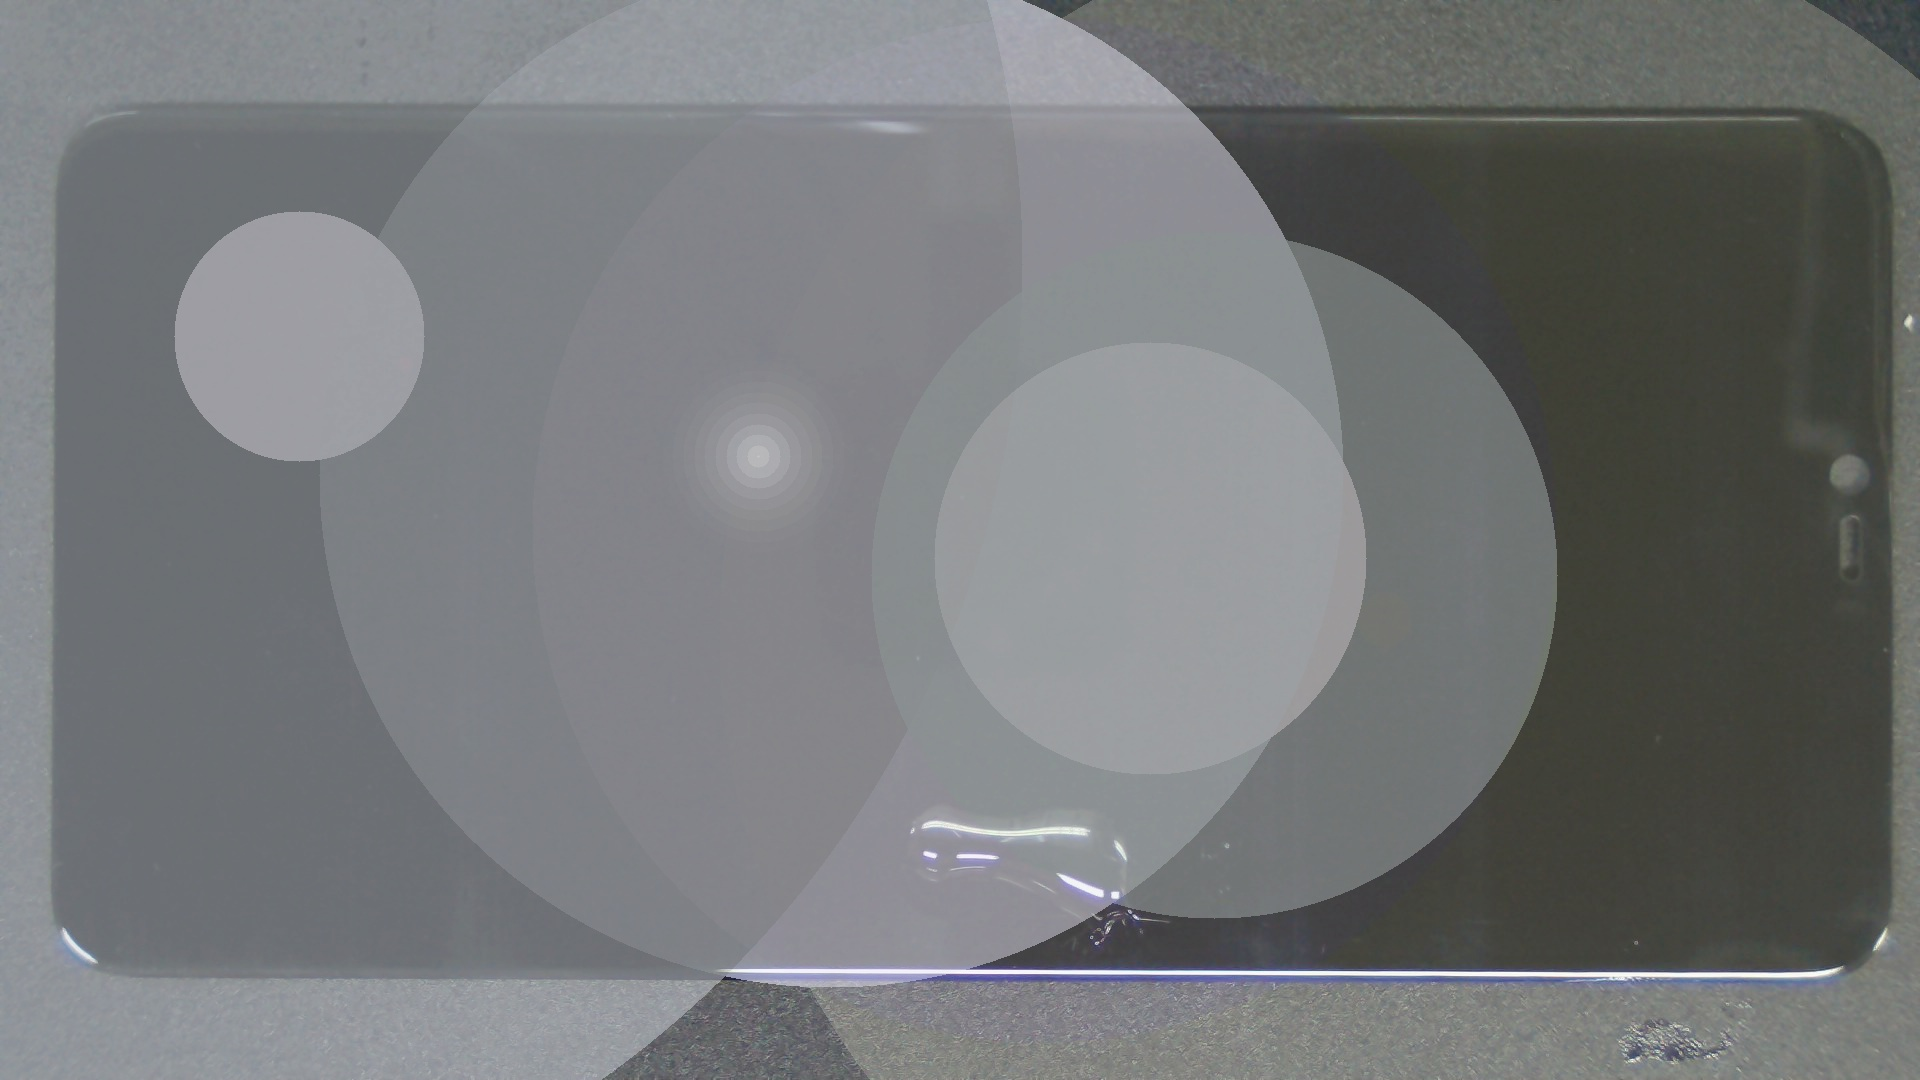oil: (468, 401, 1400, 1080)
